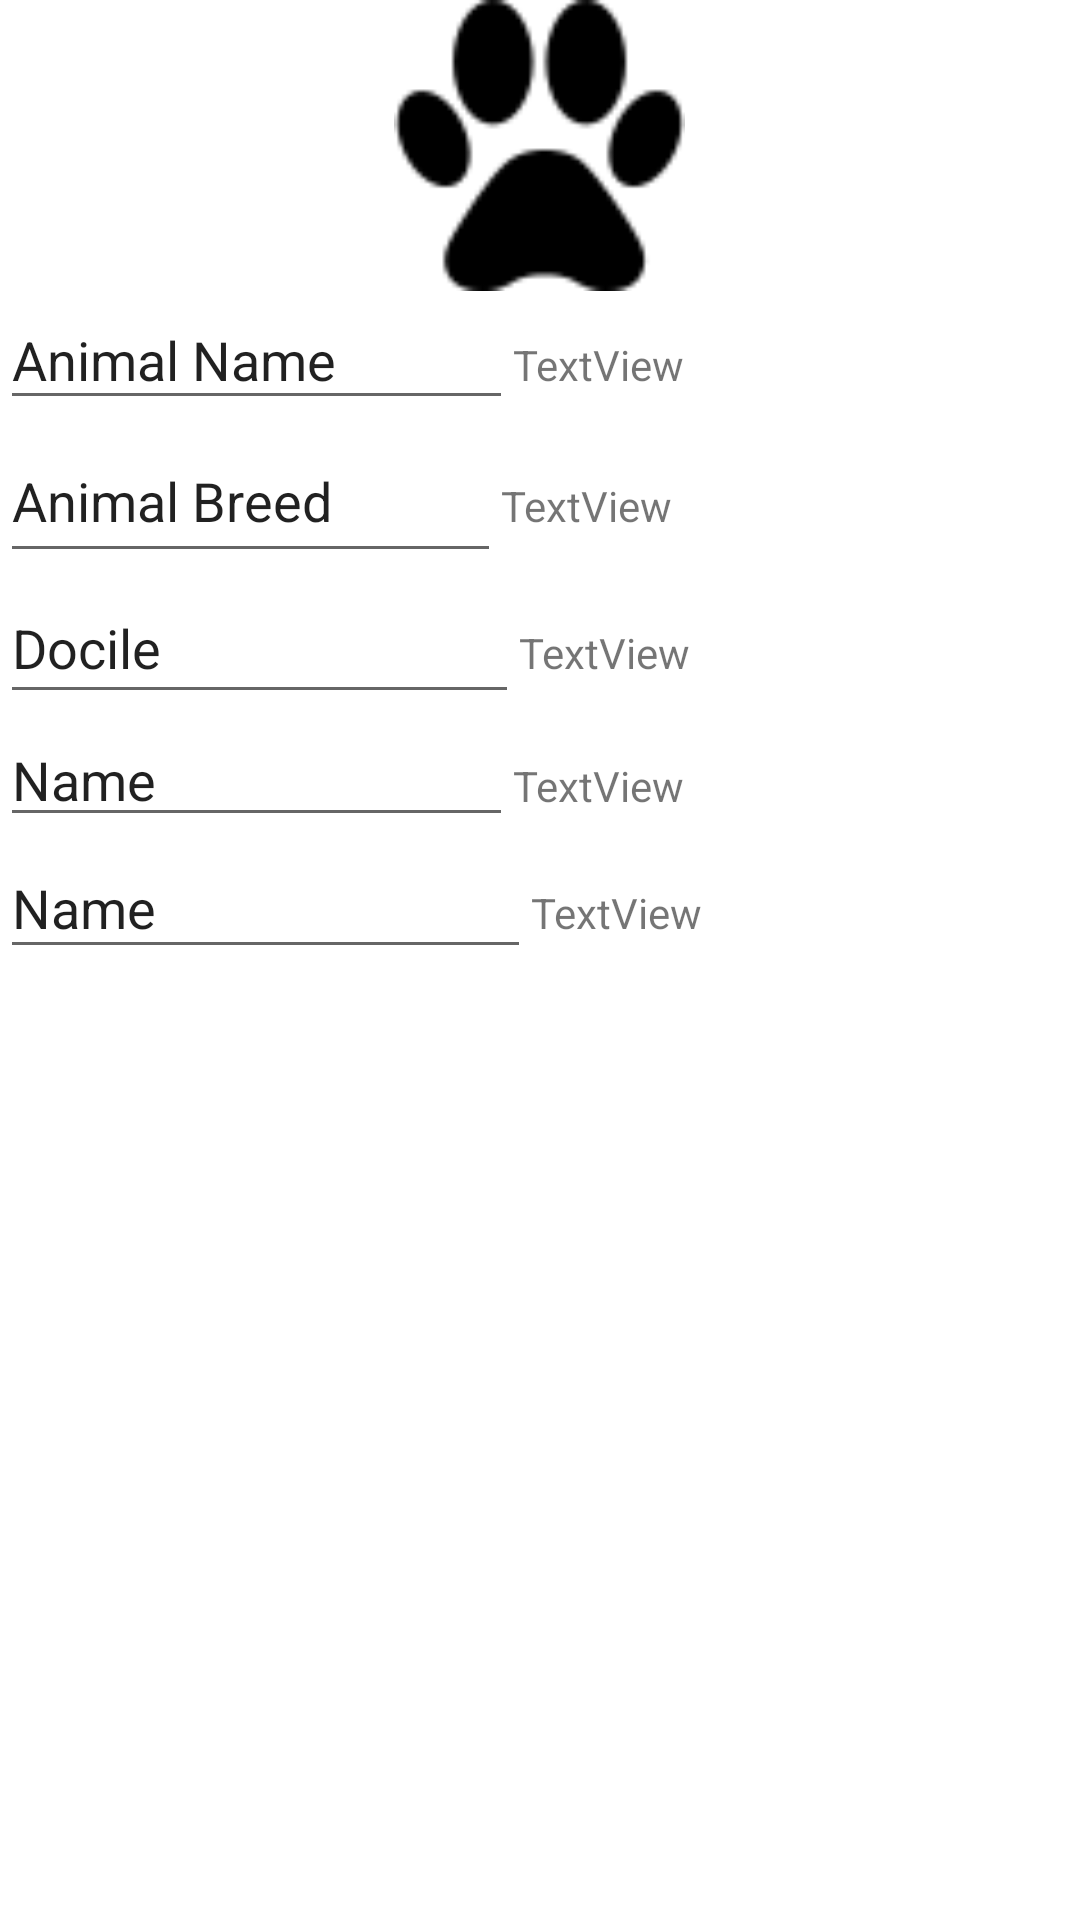

Where to tap for icons on this 1080*1920 app screen, as (x,y):
paw: (539,145)
